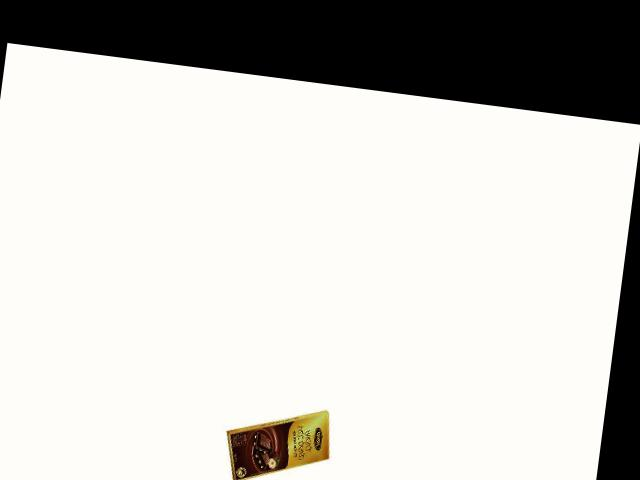chocolate: (210, 393, 336, 480)
